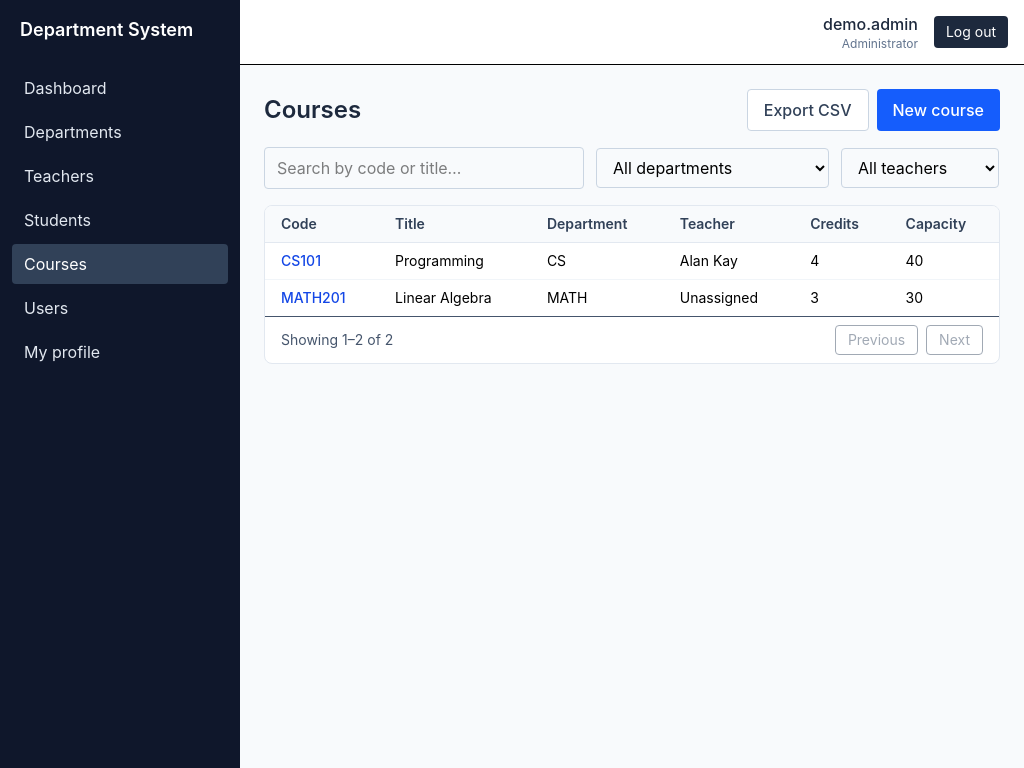
it: Course form (create) › shows "A course with code 'CS101' already exists" under its field
The width and height of the screenshot is (1024, 768).
Click the button "New course". click: (938, 110)
box: [876,89,1000,131]
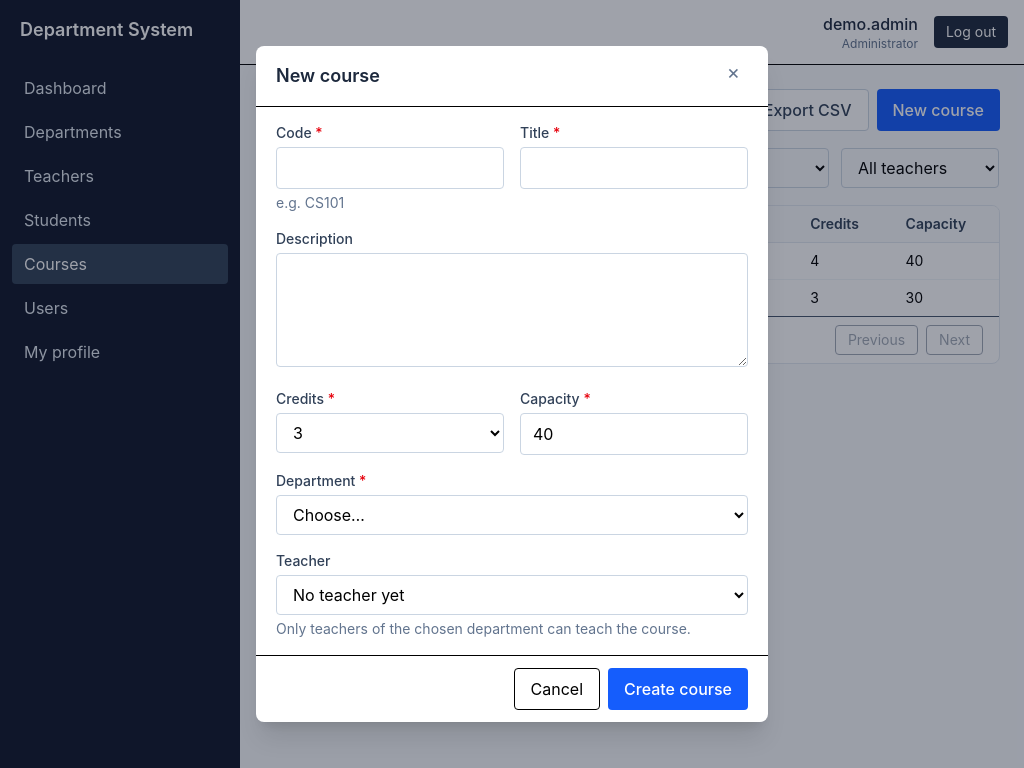
Type "CS101" into the field labelled "Code *". click: (390, 168)
box: [276,147,504,189]
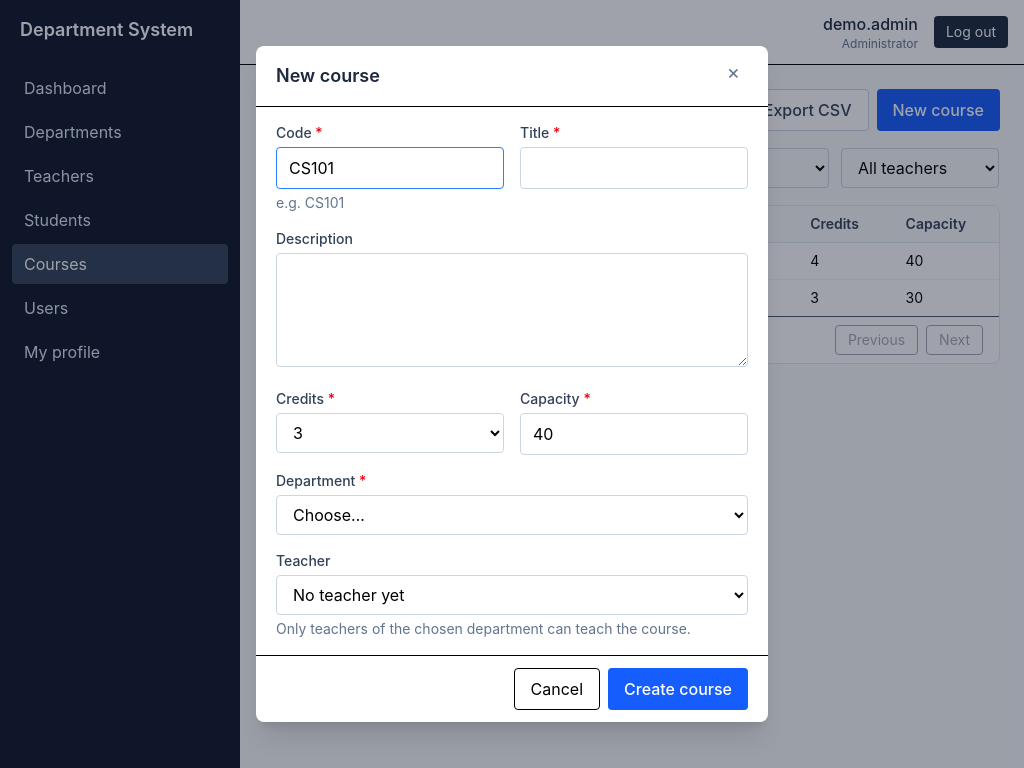
Type "Programming" into the field labelled "Title *". click: (634, 168)
box: [520,147,748,189]
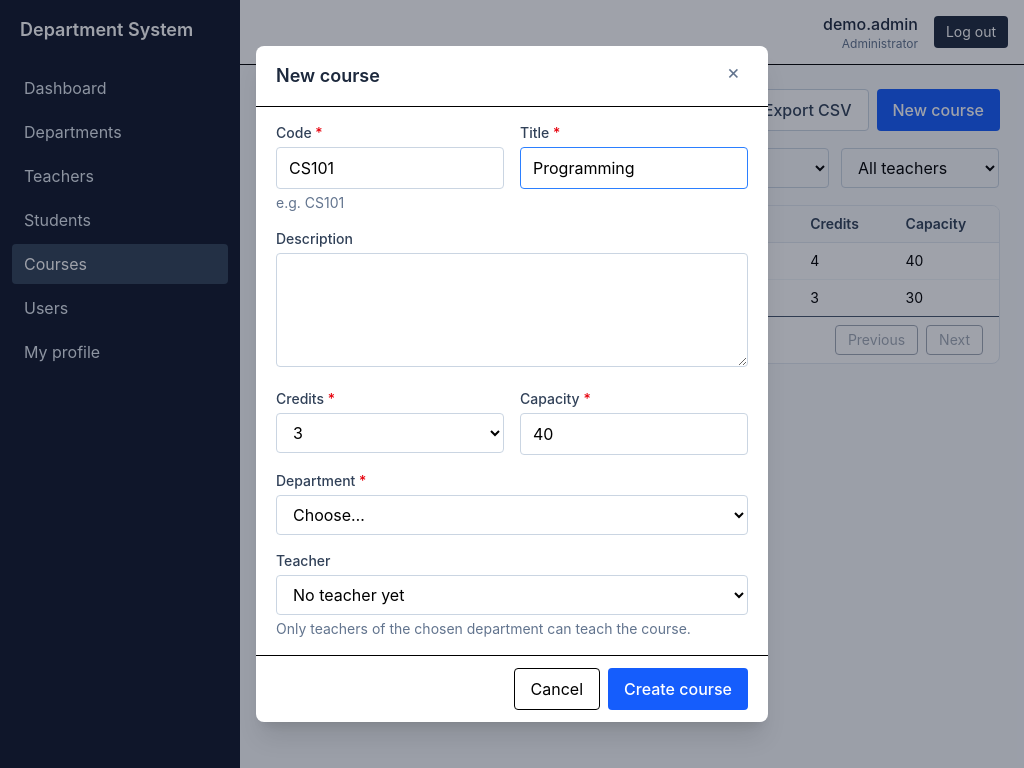
Select "CS — Computer Science" in the dropdown labelled "Department *". click: (512, 515)
box: [276,495,748,535]
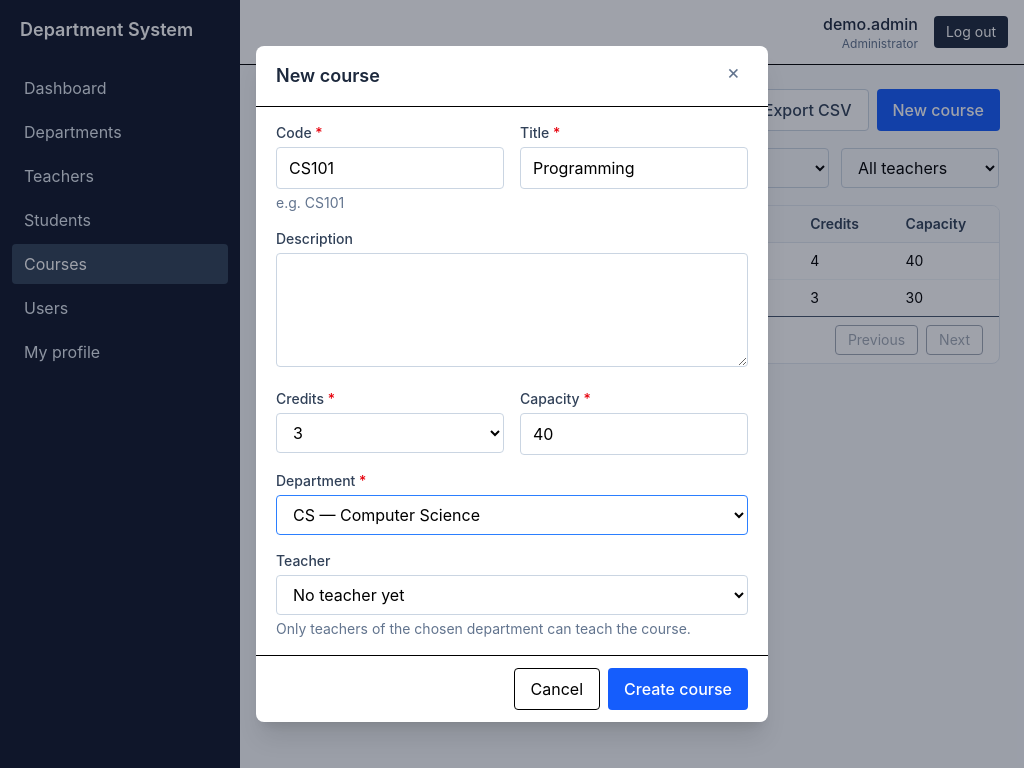
Click the button "Create course". click: (678, 689)
box: [608,668,748,710]
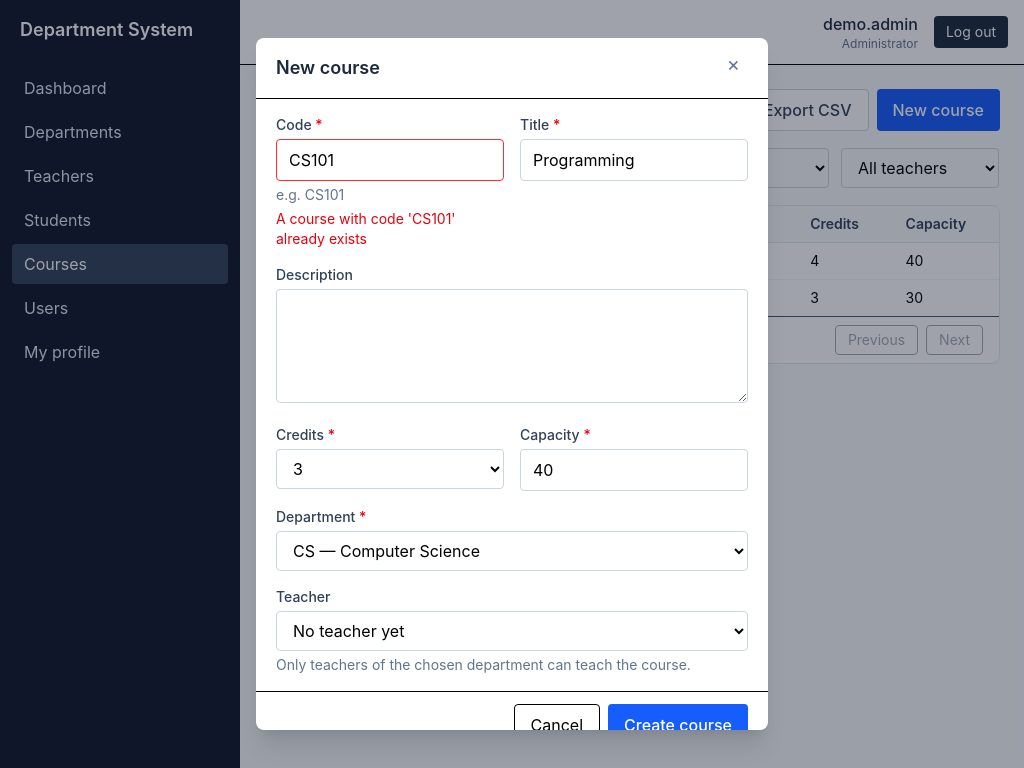
Now the text "A course with code 'CS101' already exists" is shown, box [276,210,456,247]
